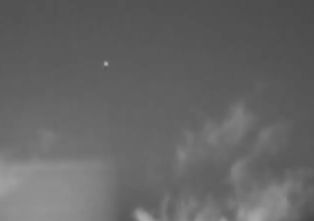Target: (105, 62, 109, 66)
